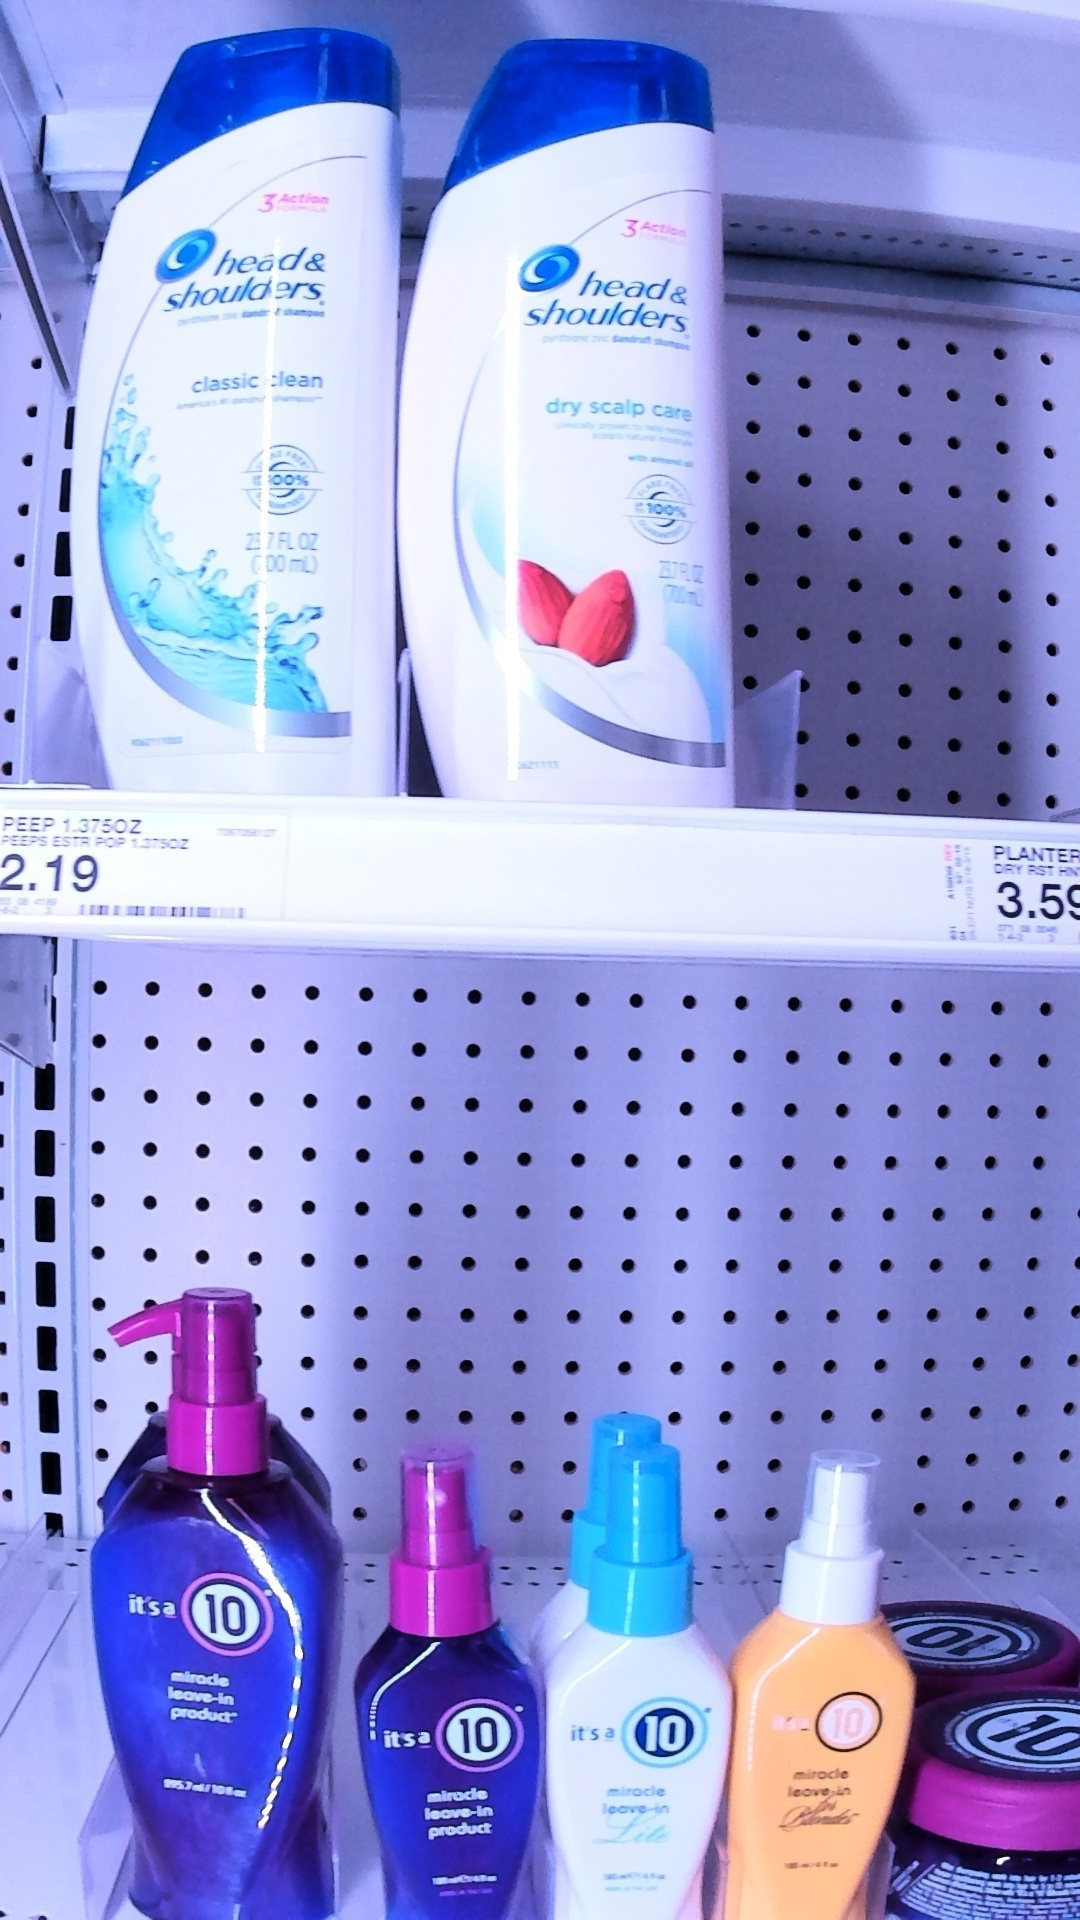ptag: (1, 789, 280, 942)
